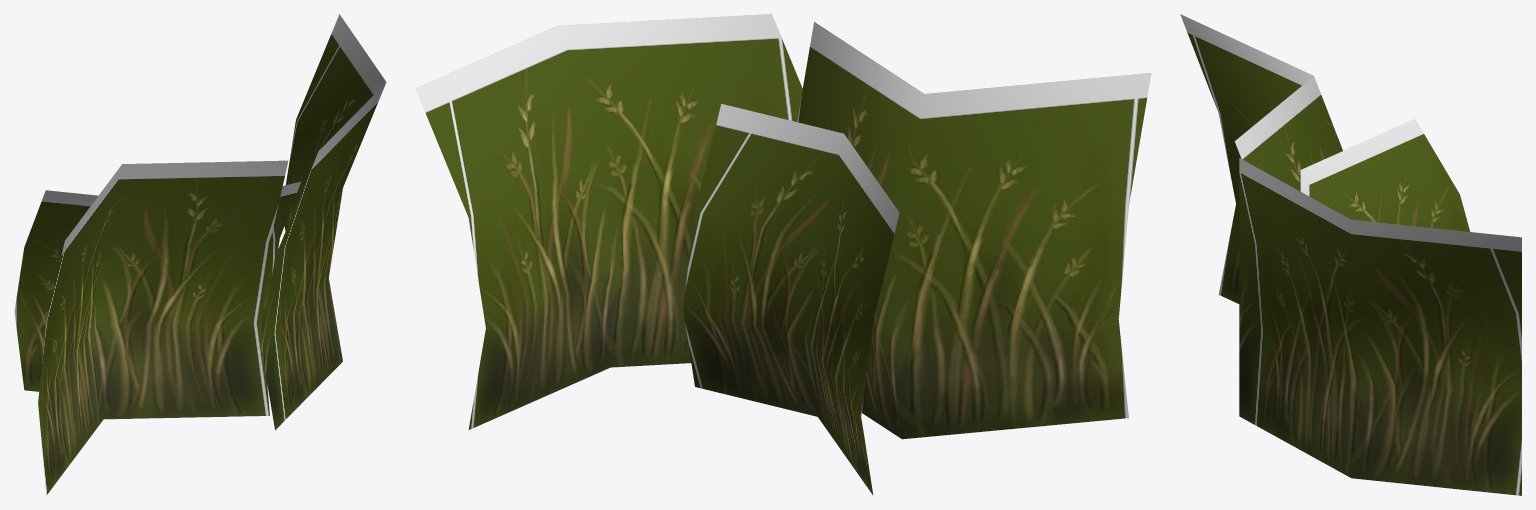
File: n_SWCgrass01.glb
3 renders of one model, left to right at view 1: azimuth 30°, elevation 25°; view 2: azimuth 150°, elevation 25°; view 3: azimuth 270°, elevation 25°, orthographic. The views are drawn at different scales.
Visible parts, largest first — view 1: n_SWCgrass01; view 2: n_SWCgrass01; view 3: n_SWCgrass01.
Boxes of the visible parts, x1,y1,x2,y2 form: n_SWCgrass01: [14, 14, 386, 495]; n_SWCgrass01: [415, 14, 1151, 495]; n_SWCgrass01: [1180, 14, 1521, 495].
Size of the model in its own units: 1.99 by 1.18 by 1.29.
1 material, 1 textured.
